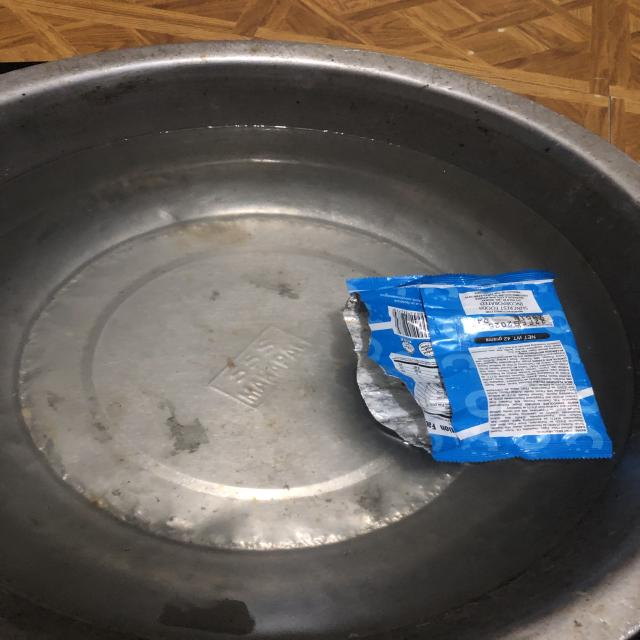Plastic Wrapper: (343, 270, 612, 462)
